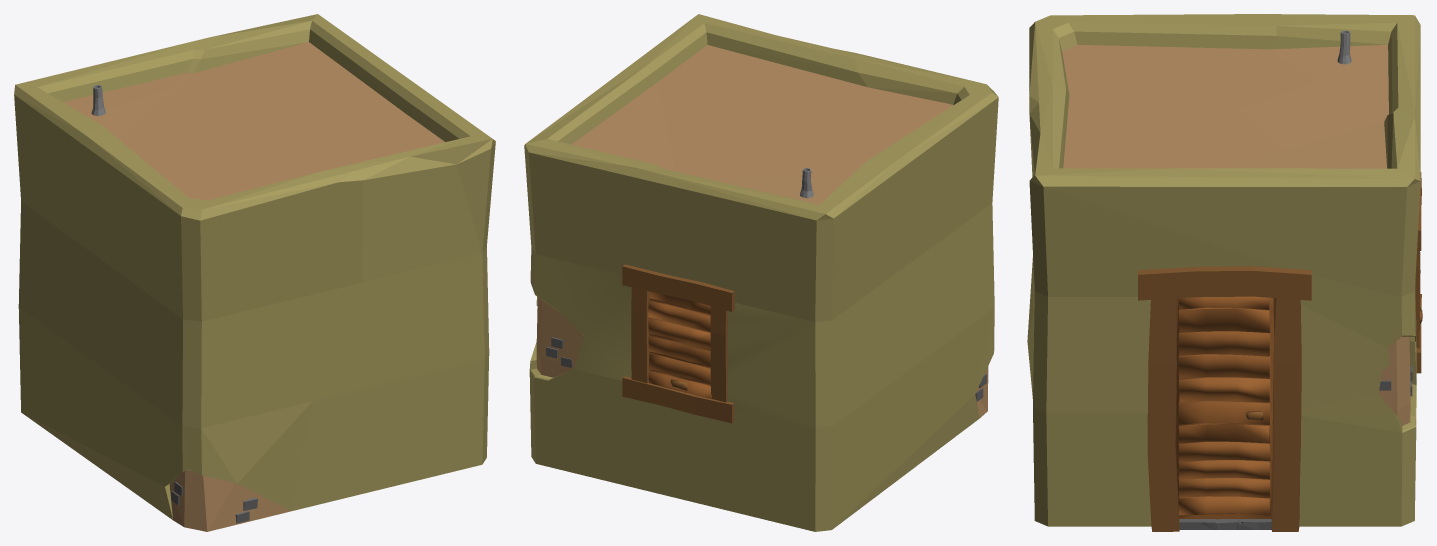
The model's file is MudHut.fbx.
3 views of the same model, side by side, from view 1: azimuth 30°, elevation 25°; view 2: azimuth 150°, elevation 25°; view 3: azimuth 270°, elevation 25° (orthographic). The views are drawn at different scales.
Parts seen in each view (by area): view 1: AdobeHut; view 2: AdobeHut; view 3: AdobeHut.
Boxes of the visible parts, x1=… form: AdobeHut: x1=14, y1=14, x2=495, y2=531; AdobeHut: x1=524, y1=14, x2=998, y2=531; AdobeHut: x1=1027, y1=14, x2=1422, y2=531.
Bounding box in the file's own units: 630 × 629 × 624.
